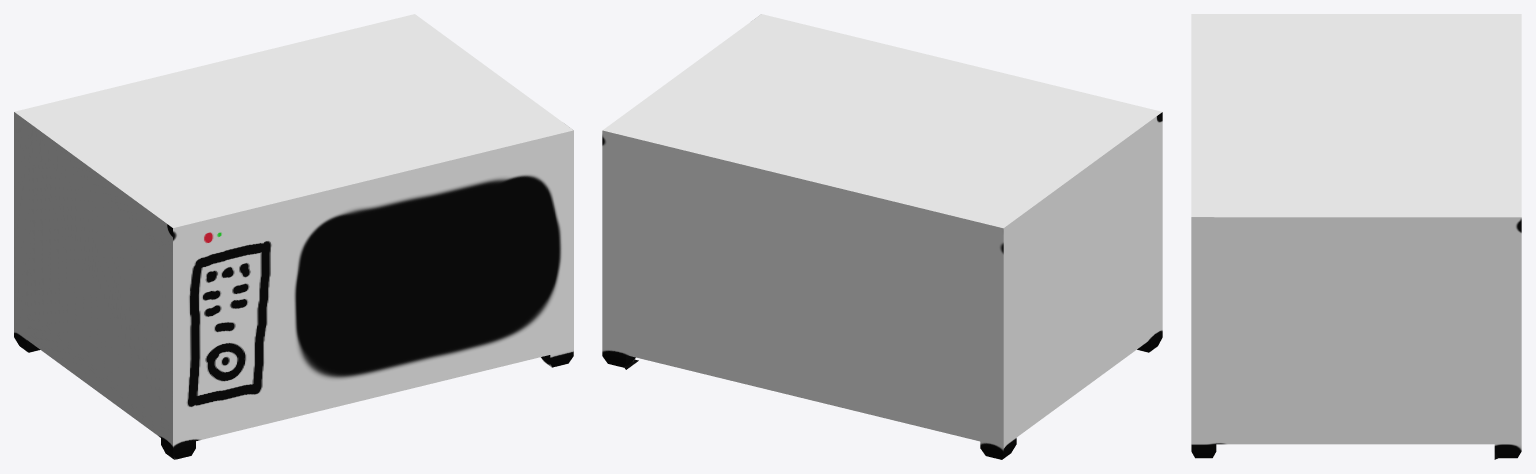
File: MICROWAVE1.fbx
3 views of the same model, side by side, from view 1: azimuth 30°, elevation 25°; view 2: azimuth 150°, elevation 25°; view 3: azimuth 270°, elevation 25° (orthographic). The views are drawn at different scales.
Visible parts, largest first — view 1: pCube1; view 2: pCube1; view 3: pCube1.
Part boxes in pixels (x1,y1,x2,y2): pCube1: (14, 14, 573, 459); pCube1: (602, 14, 1162, 459); pCube1: (1191, 14, 1521, 459).
Bounding box in the file's own units: 733 × 409 × 504.
1 material, 1 textured.
